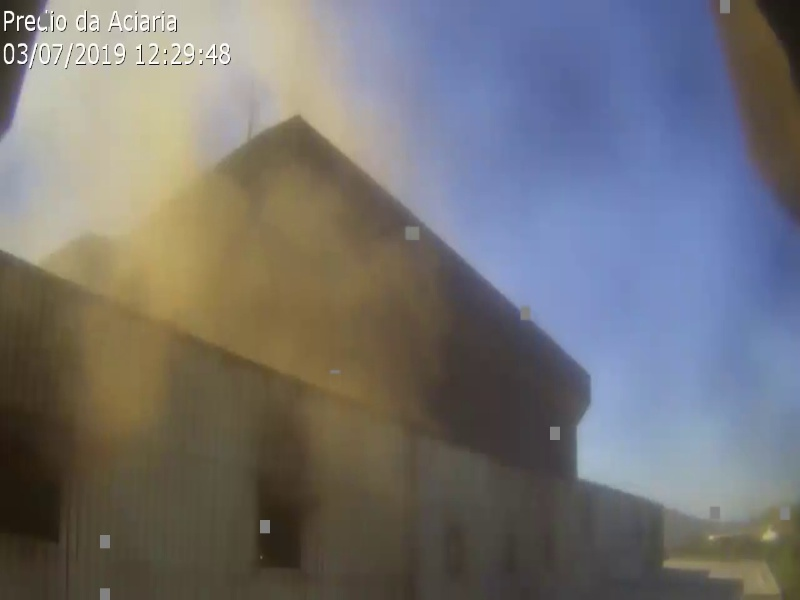Pessimo: (24, 85, 391, 512)
